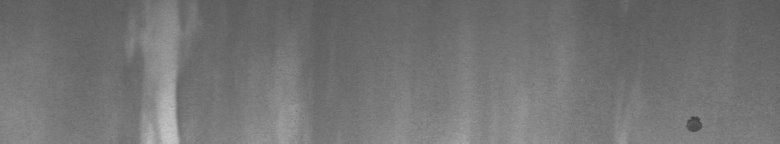fi: (682, 108, 707, 136)
